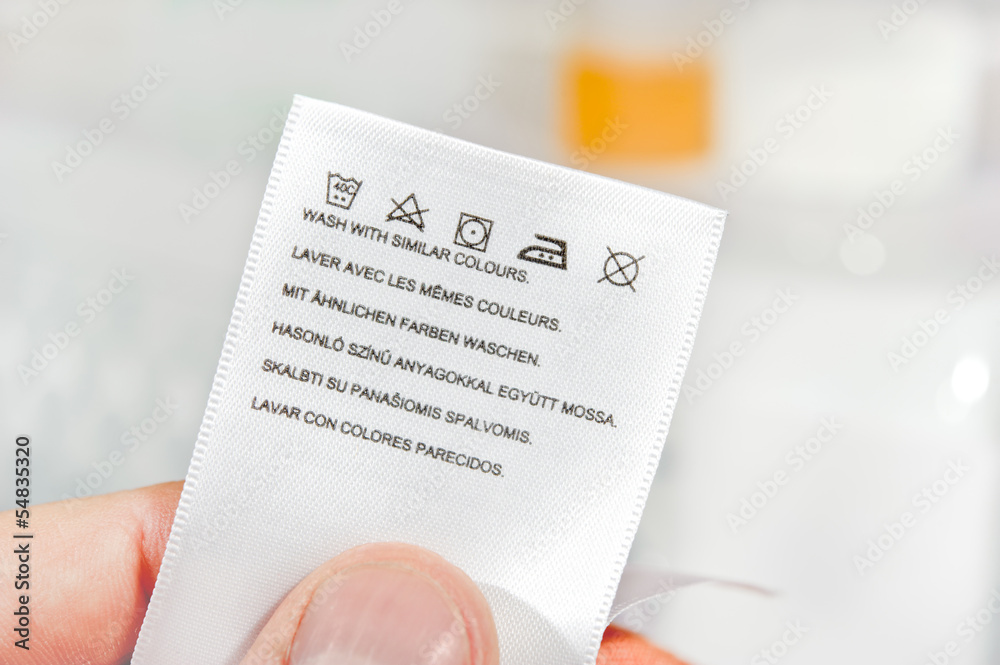ER_iron_medium_temp: (510, 223, 578, 278)
ER_no_bleach: (385, 192, 430, 232)
ER_no_dry_clean: (595, 239, 646, 295)
ER_tumble_dry_low_heat: (454, 207, 496, 253)
ER_wash_40: (322, 171, 363, 211)
